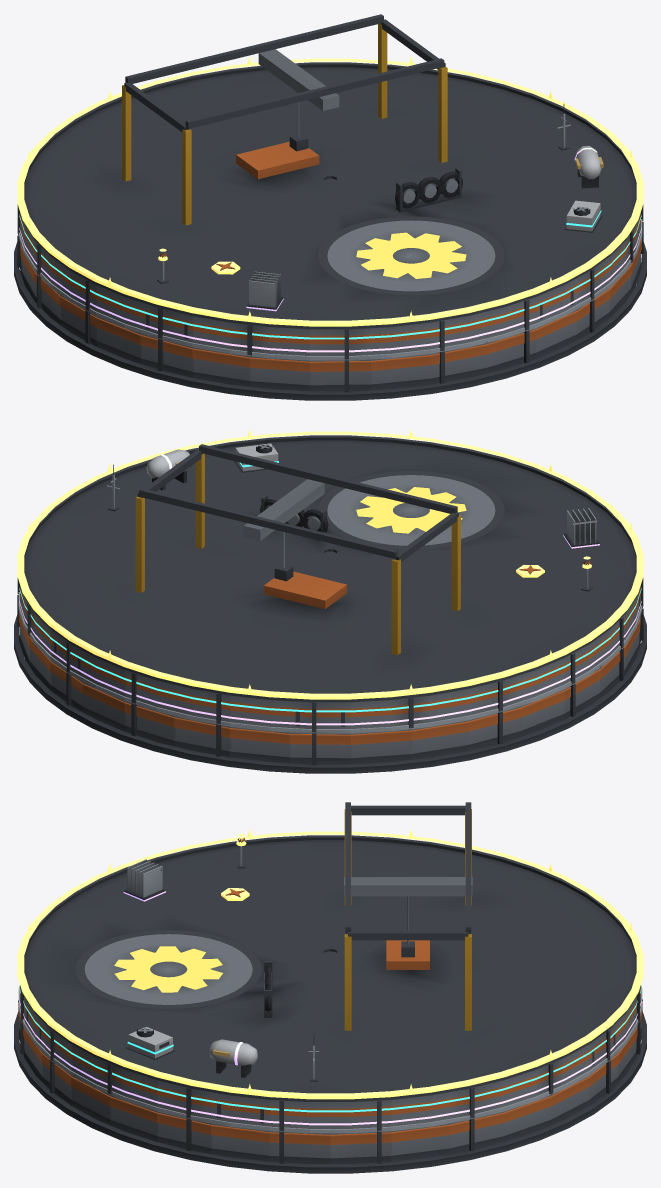
File: parts_works_xl_far.glb
The picture shows the model from 3 angles, top to bottom: view 1: azimuth 30°, elevation 25°; view 2: azimuth 150°, elevation 25°; view 3: azimuth 270°, elevation 25°; orthographic projection.
Parts seen in each view (by area): view 1: Roof, Base, L5, L4, L2, L3; view 2: Roof, Base, L5, L4, L2, L3; view 3: Roof, Base, L5, L4, L2, L3.
Part boxes in pixels (x1=…): Roof: x1=17, y1=14, x2=643, y2=359; Base: x1=14, y1=222, x2=646, y2=400; L5: x1=17, y1=56, x2=643, y2=326; L4: x1=19, y1=145, x2=641, y2=352; L2: x1=18, y1=104, x2=642, y2=360; L3: x1=19, y1=175, x2=641, y2=339; Roof: x1=17, y1=435, x2=643, y2=732; Base: x1=14, y1=595, x2=646, y2=773; L5: x1=17, y1=429, x2=643, y2=699; L4: x1=19, y1=449, x2=641, y2=725; L2: x1=18, y1=464, x2=642, y2=733; L3: x1=19, y1=443, x2=641, y2=712; Roof: x1=20, y1=802, x2=640, y2=1130; Base: x1=14, y1=999, x2=646, y2=1173; L5: x1=17, y1=829, x2=643, y2=1099; L4: x1=19, y1=859, x2=641, y2=1125; L2: x1=18, y1=985, x2=642, y2=1133; L3: x1=19, y1=948, x2=641, y2=1112.
Size of the model in its own units: 23.15 by 6.93 by 23.15.
